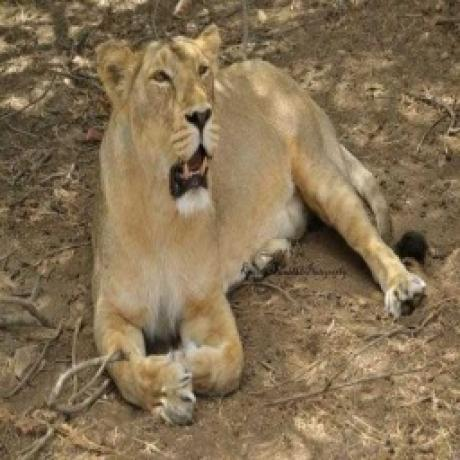Lion: (86, 23, 435, 423)
